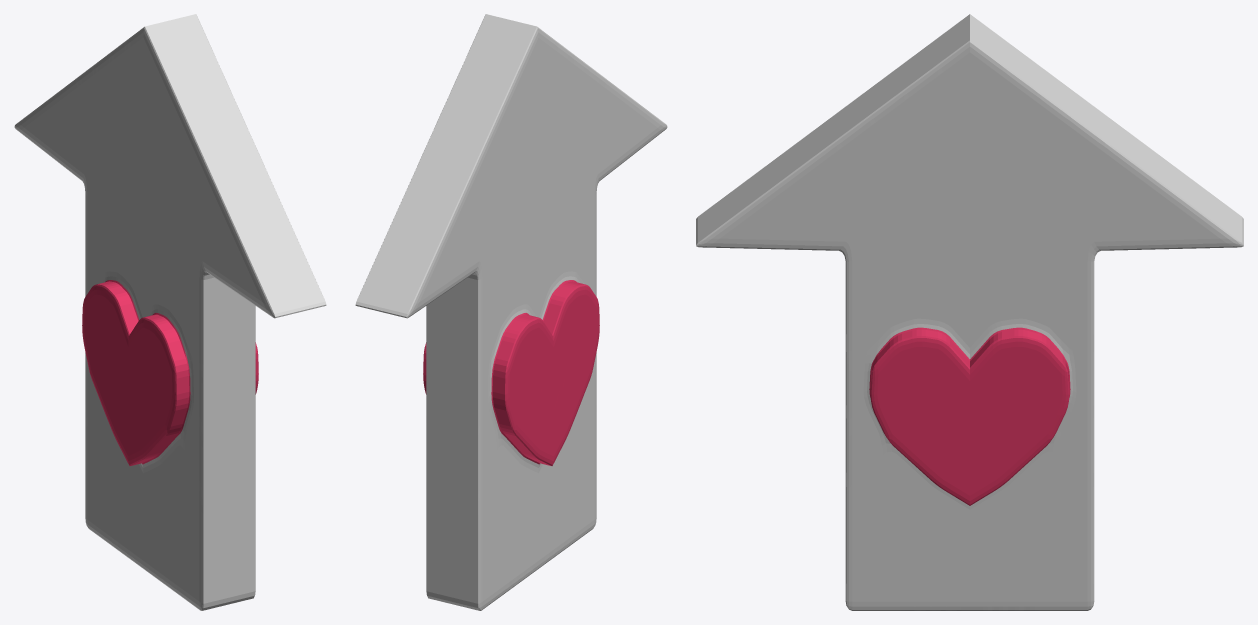
File: vida.fbx
3 views of the same model, side by side, from view 1: azimuth 30°, elevation 25°; view 2: azimuth 150°, elevation 25°; view 3: azimuth 270°, elevation 25° (orthographic). The views are drawn at different scales.
Visible parts, largest first — view 1: vida; view 2: vida; view 3: vida.
Part boxes in pixels (bbox=[...]): vida: bbox=[14, 14, 326, 610]; vida: bbox=[355, 14, 667, 610]; vida: bbox=[696, 14, 1243, 610].
Bounding box in the file's own units: 55.4 × 341 × 296.
